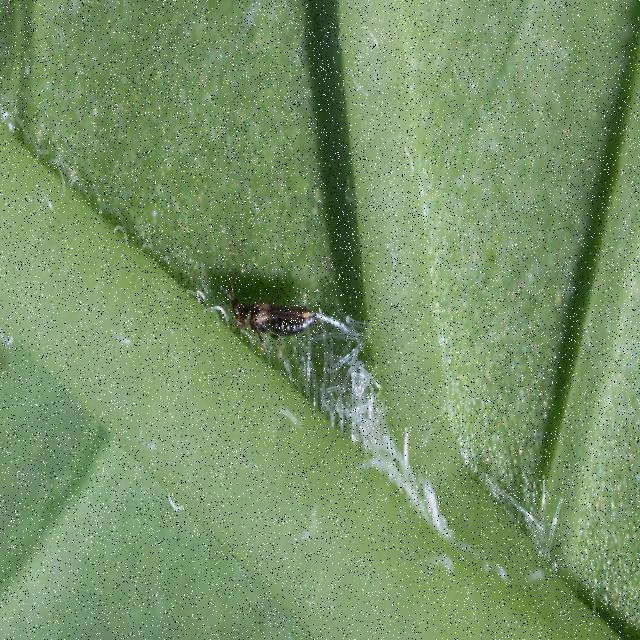Thrips: (191, 220, 360, 381)
